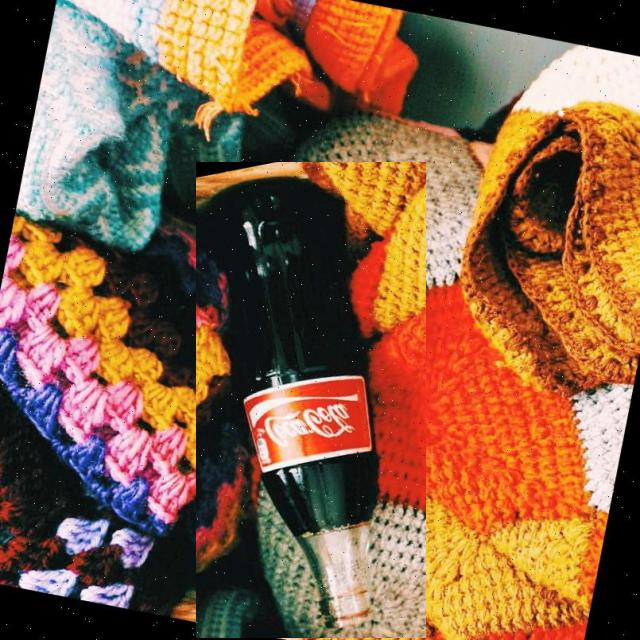coca-cola: (196, 162, 426, 638)
